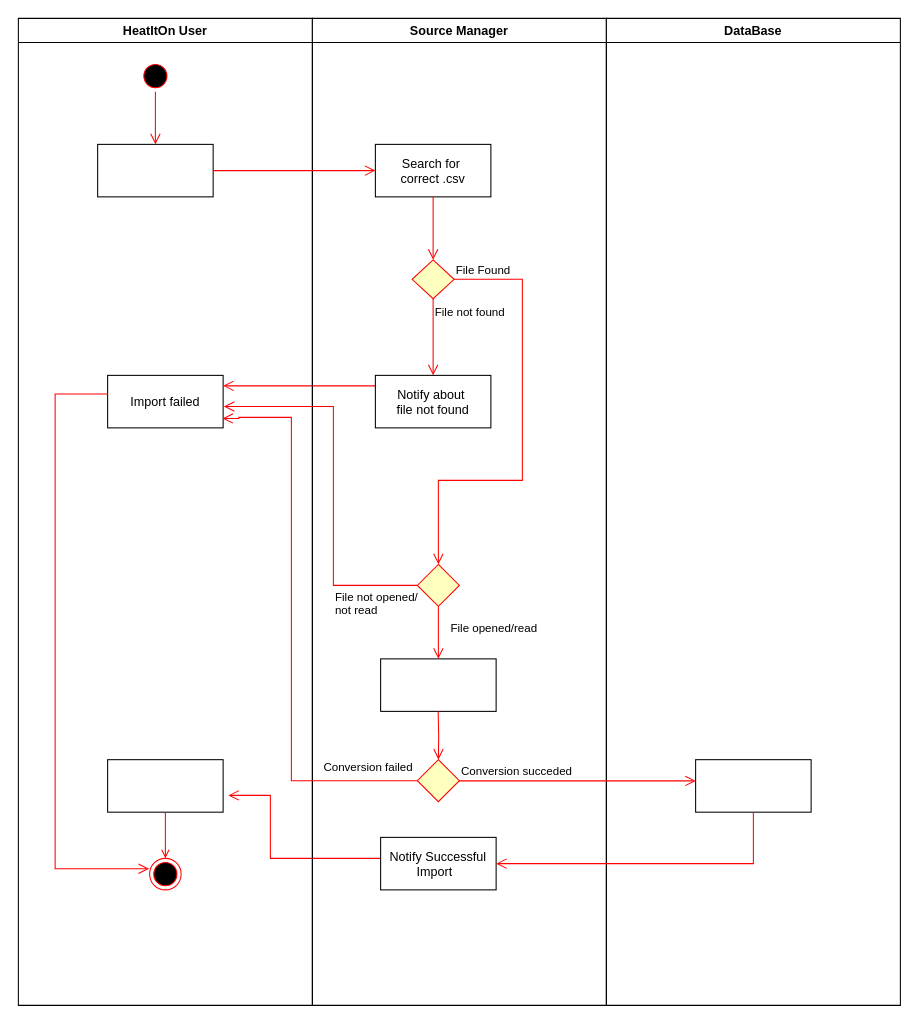
Some shapes in this 919 by 1024 pixel diagram are drawn without their labels. Each missing label, with the centre of its shape:
"Convert data into sources" belongs at point (438, 684).
"Import Source" belongs at point (155, 170).
"Import succeded" belongs at point (165, 785).
"Save Sources" belongs at point (753, 785).
